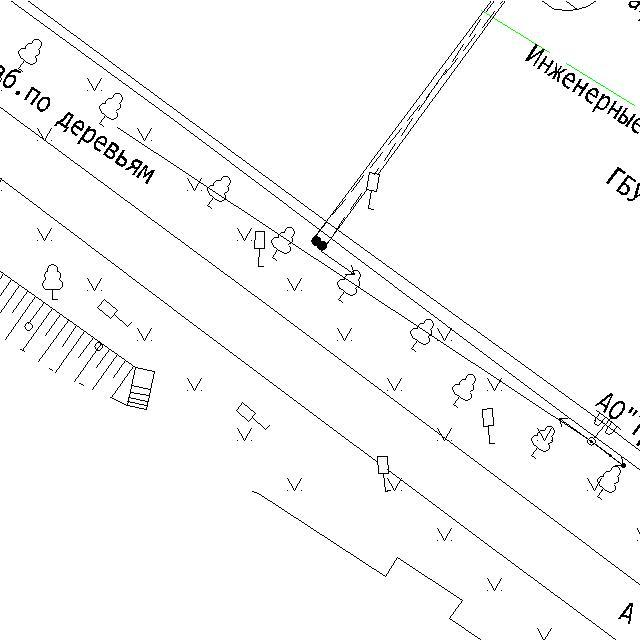asphalt: (616, 602, 634, 626)
sing: (96, 298, 134, 330), (234, 400, 272, 432), (480, 406, 500, 447), (375, 453, 394, 494), (364, 170, 382, 212)
tree: (13, 37, 44, 73), (97, 91, 125, 129), (408, 316, 436, 354), (40, 262, 66, 302), (334, 268, 362, 305), (450, 372, 478, 409), (529, 424, 557, 461), (596, 464, 624, 501), (205, 173, 232, 210), (269, 225, 296, 262)
